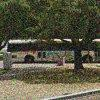buses: (7, 39, 75, 64), (82, 39, 100, 63)
